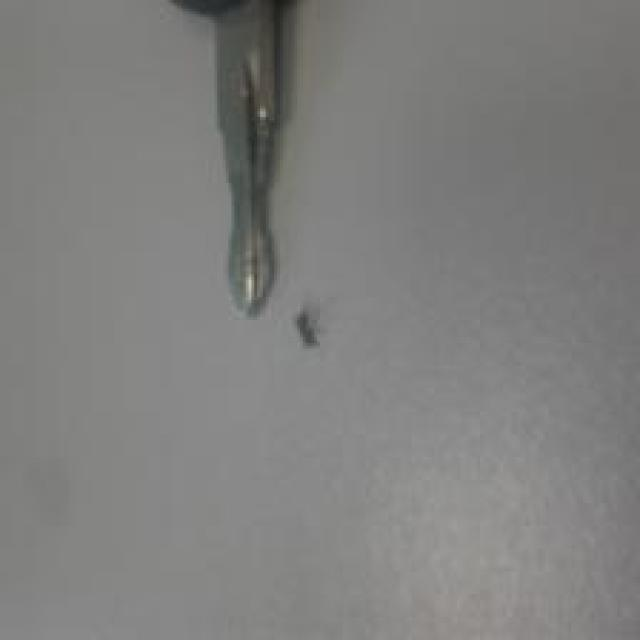Aedes albopictus: (159, 0, 307, 317)
